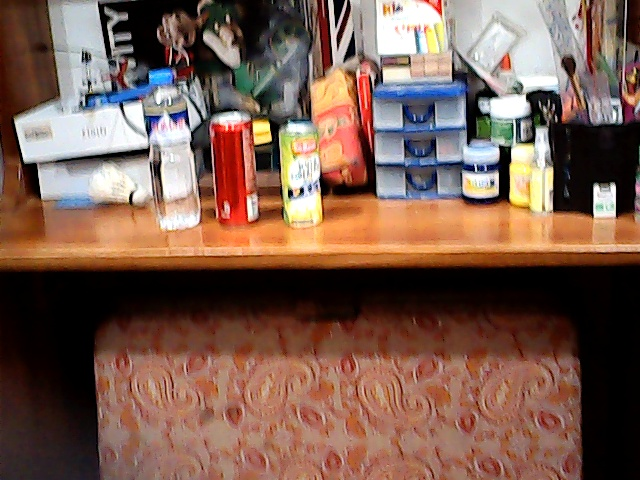Cola: (208, 112, 261, 222)
Pine Juice: (278, 122, 324, 223)
Summit Water: (137, 75, 199, 228)
